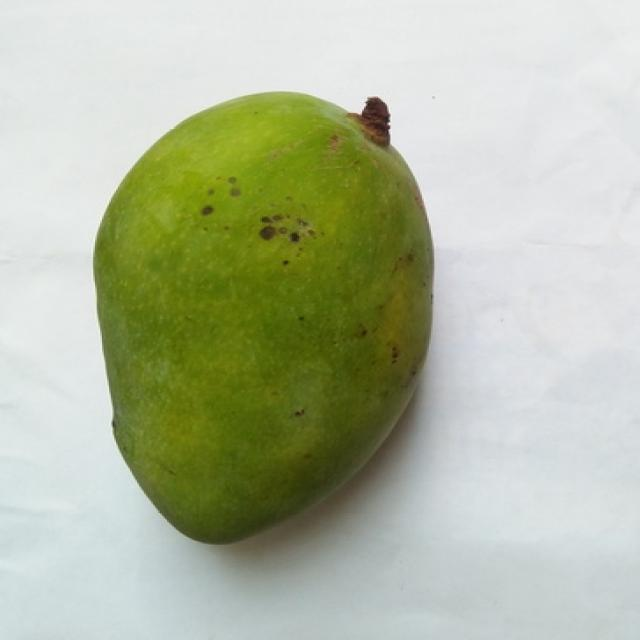Mango: (95, 94, 433, 542)
